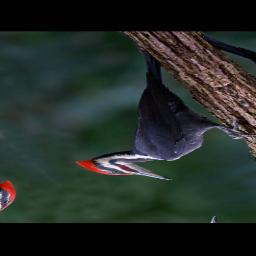Woodpecker: (0, 36, 256, 196)
